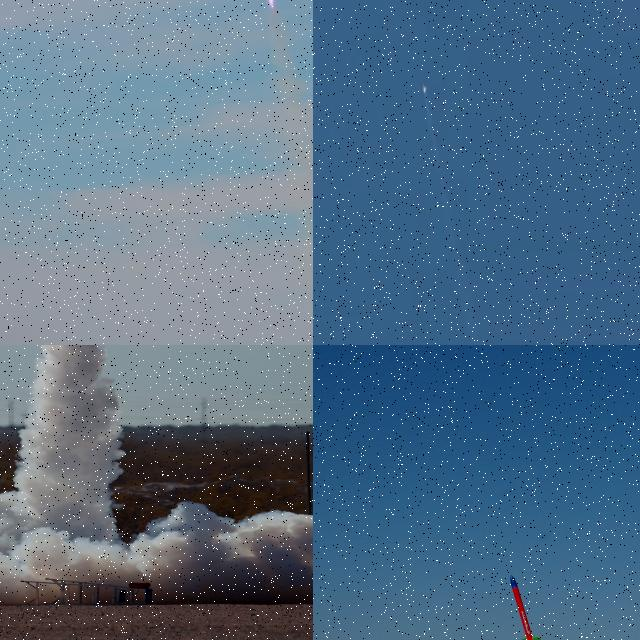Rocket: (509, 574, 543, 640), (423, 83, 426, 93)
